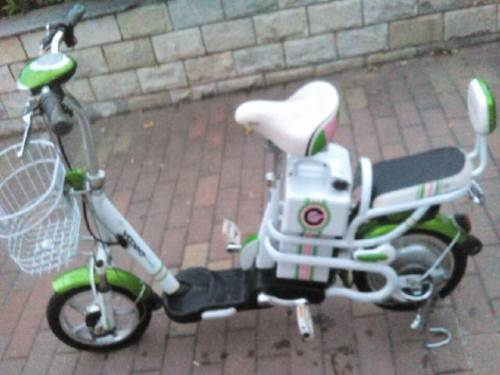电动车: (1, 2, 498, 358)
